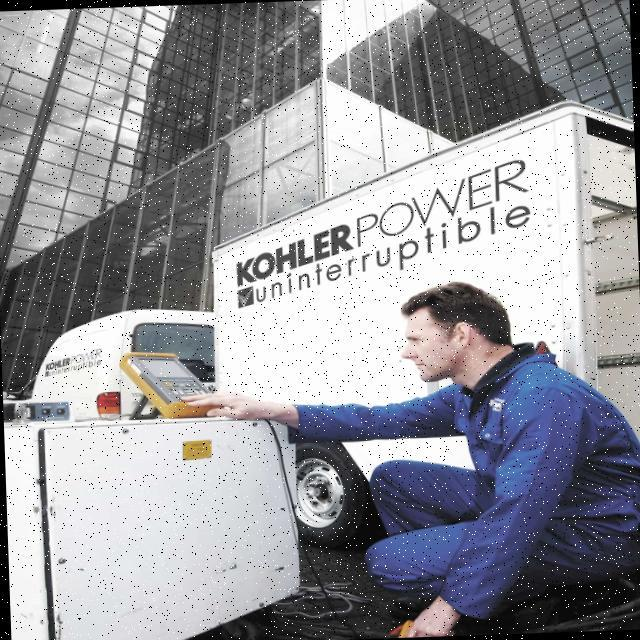Kohler: (233, 220, 356, 286)
